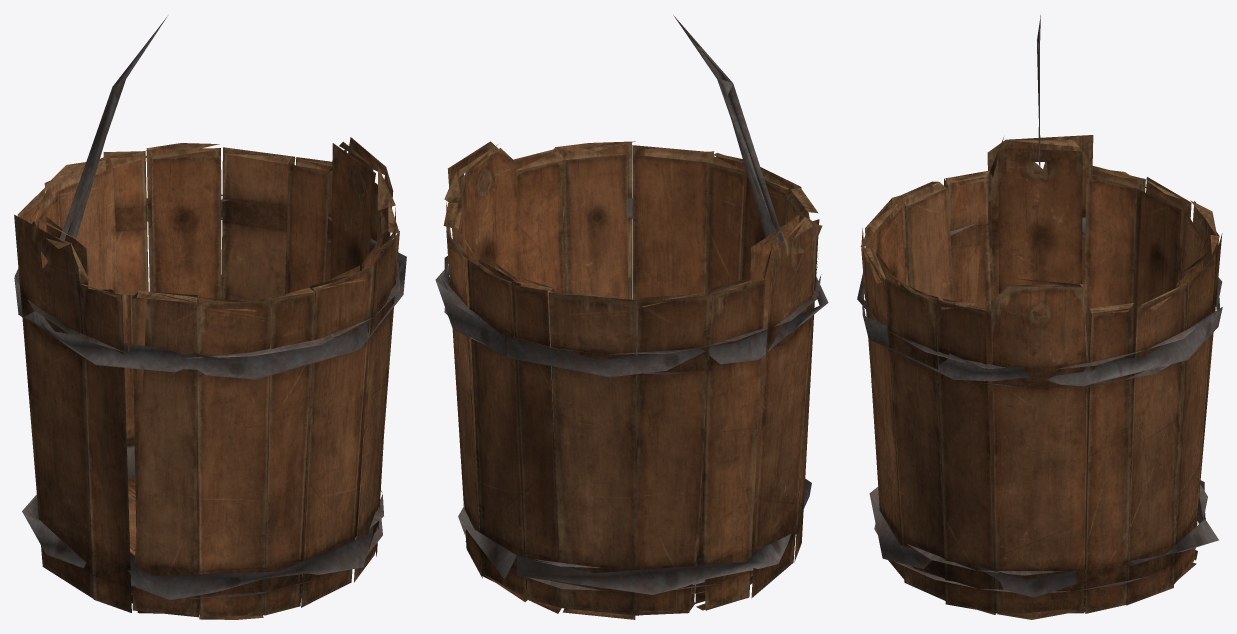
Rendered from bucket.glb.
3 views of the same model, side by side, from view 1: azimuth 30°, elevation 25°; view 2: azimuth 150°, elevation 25°; view 3: azimuth 270°, elevation 25° (orthographic). The views are drawn at different scales.
Parts seen in each view (by area): view 1: wooden_bucket_01; view 2: wooden_bucket_01; view 3: wooden_bucket_01.
Part boxes in pixels (x1,y1,x2,y2): wooden_bucket_01: (14,16,406,619); wooden_bucket_01: (435,15,828,619); wooden_bucket_01: (857,15,1222,619).
Bounding box in the file's own units: 0.3506 × 0.5373 × 0.3407.
1 material, 1 textured.
